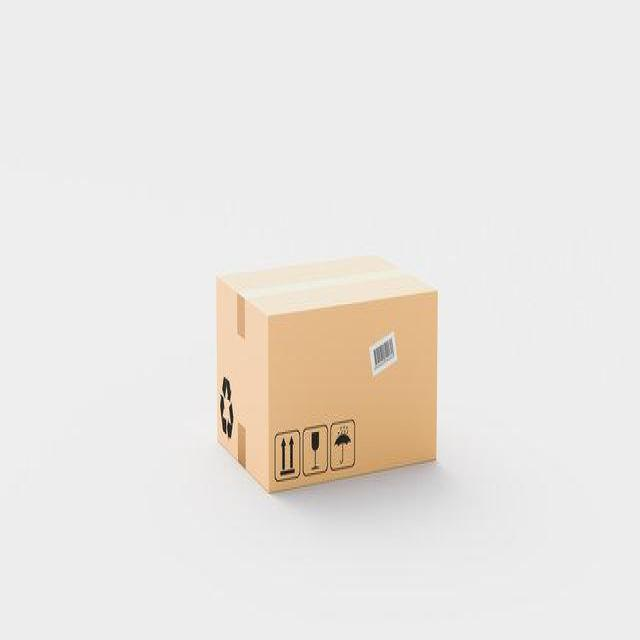box: (212, 251, 442, 494)
